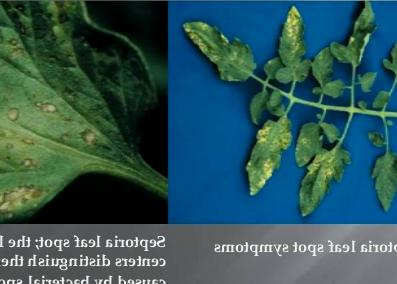Tomato Septoria leaf spot: (0, 7, 154, 220), (181, 13, 259, 94), (277, 144, 353, 218), (242, 112, 300, 195), (271, 4, 315, 93)
